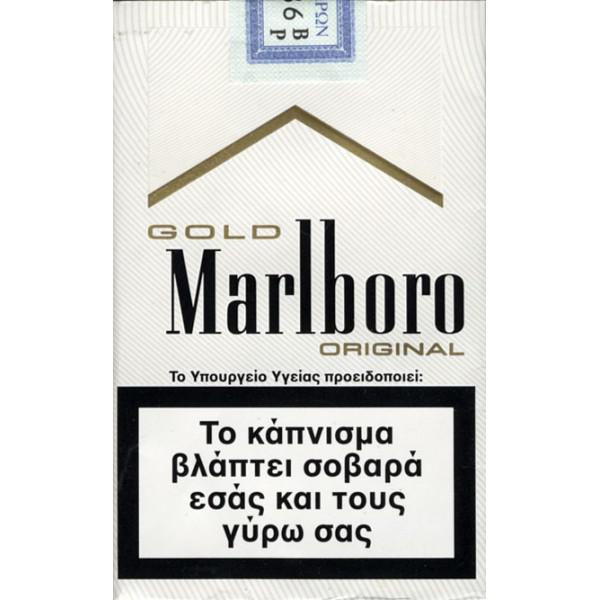marlboro_gold: (118, 6, 482, 577)
